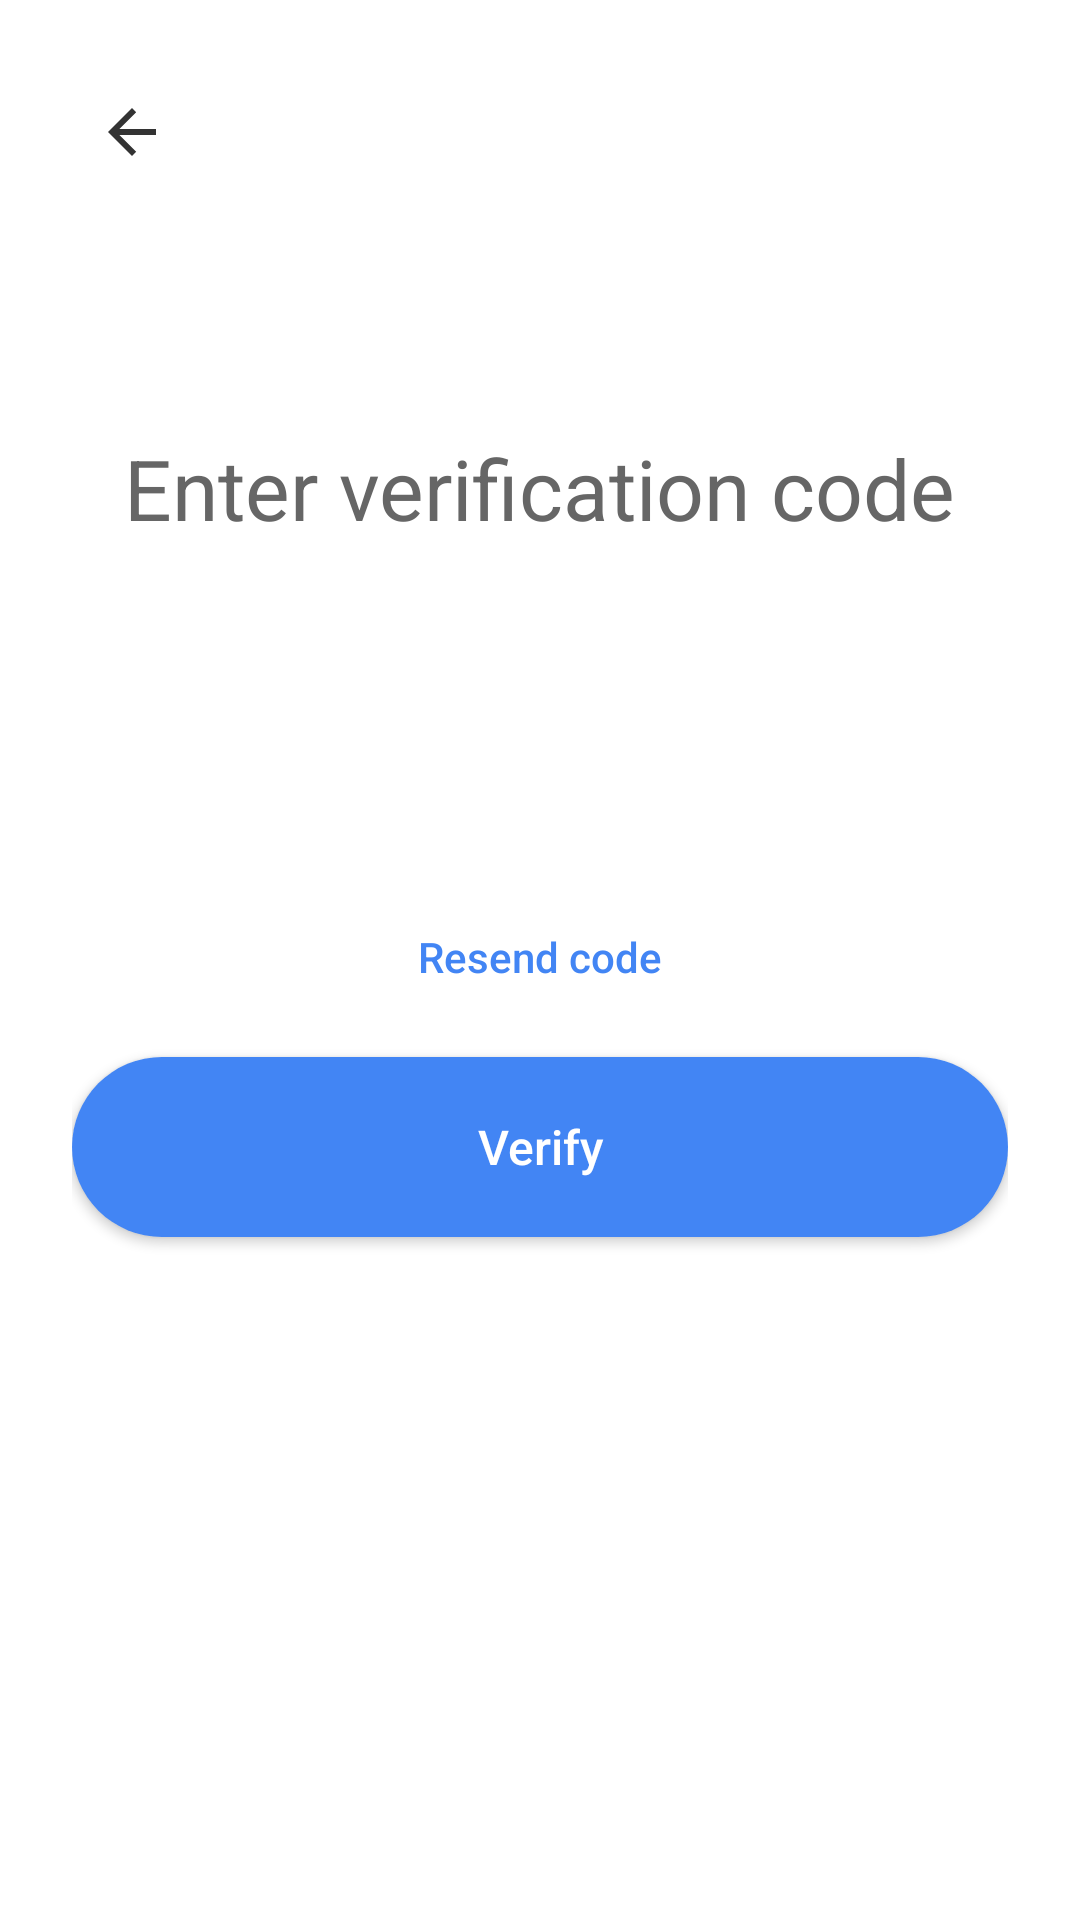

Named icons in this screenshot (1080 x 1920) and their bounding boxes, {"x1": x1, "y1": y1, "x2": x2, "y2": y2}:
ab back: {"x1": 108, "y1": 108, "x2": 156, "y2": 156}
